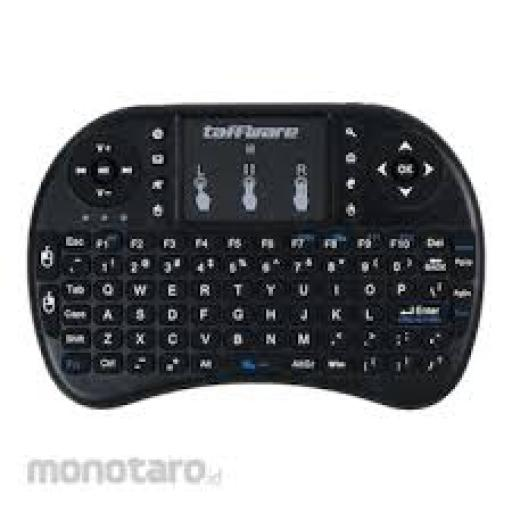KEYBOARD-2: (27, 102, 485, 407)
